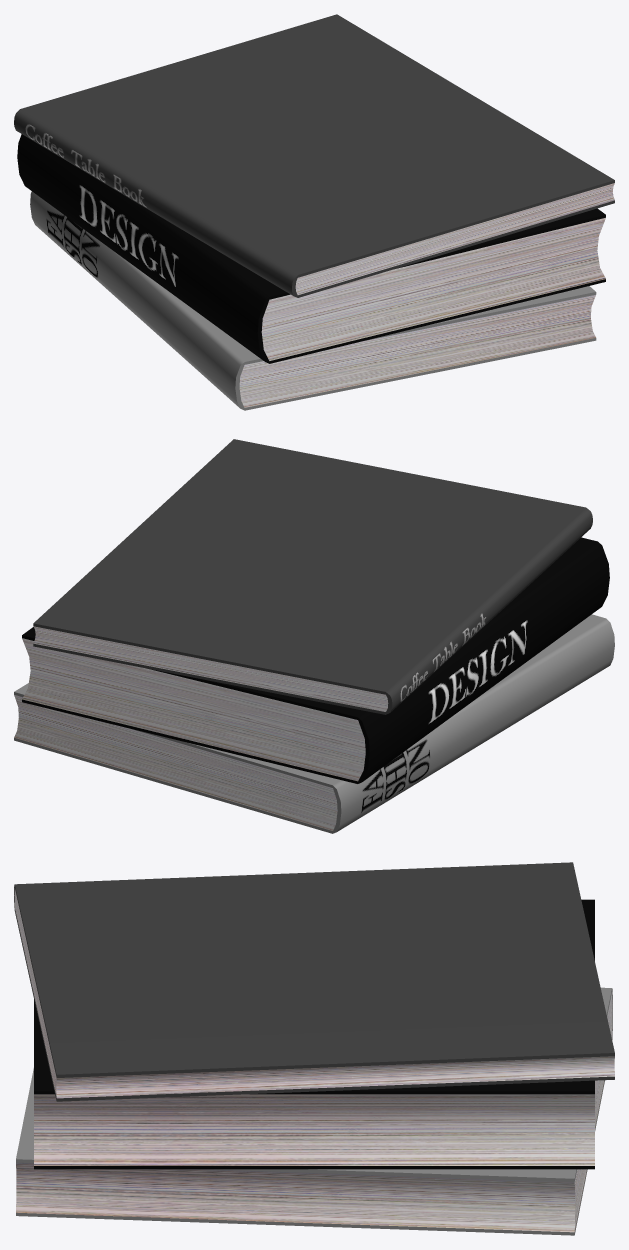
File: Coffee_Table_Books.fbx
3 renders of one model, top to bottom at view 1: azimuth 30°, elevation 25°; view 2: azimuth 150°, elevation 25°; view 3: azimuth 270°, elevation 25°, orthographic. The views are drawn at different scales.
Visible parts, largest first — view 1: Coffee_Table_Books; view 2: Coffee_Table_Books; view 3: Coffee_Table_Books.
Part boxes in pixels (x1,y1,x2,y2): Coffee_Table_Books: (14, 14, 614, 410); Coffee_Table_Books: (14, 439, 614, 833); Coffee_Table_Books: (14, 862, 614, 1235).
Size of the model in its own units: 23.76 by 8.28 by 27.87.
